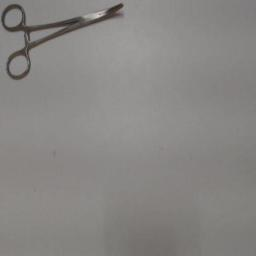Crile Artery Forceps: (1, 0, 129, 84)
